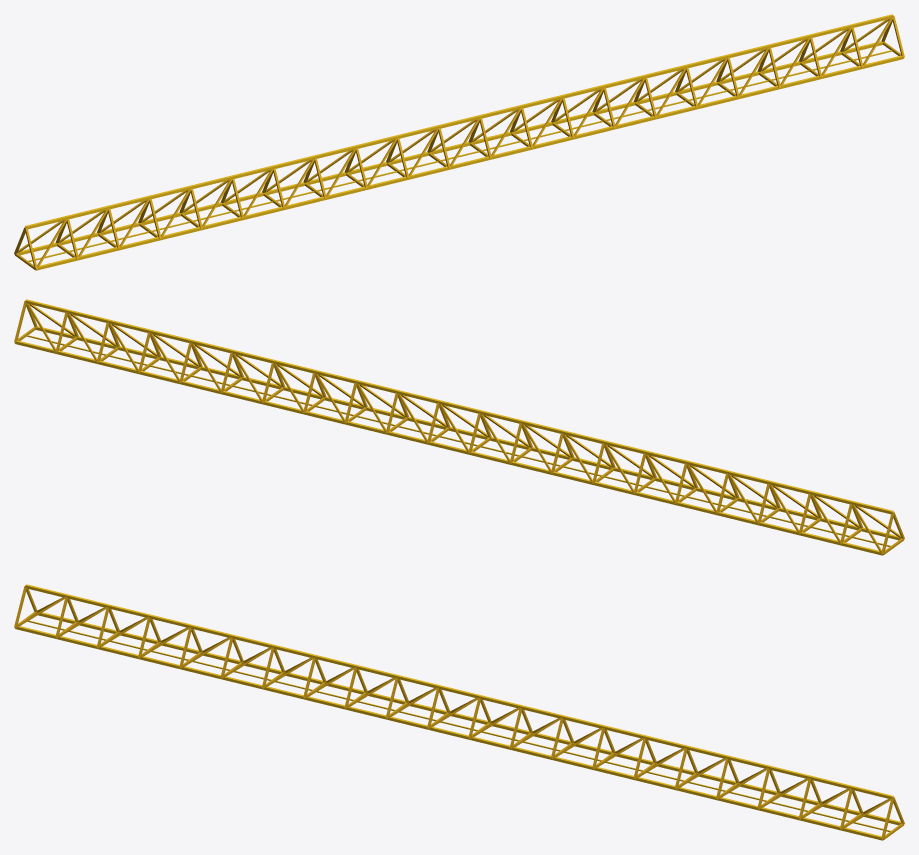
Rendered from crane-jib.glb.
3 views of the same model, one above another, from view 1: azimuth 30°, elevation 25°; view 2: azimuth 150°, elevation 25°; view 3: azimuth 330°, elevation 25° (orthographic).
Visible parts, largest first — view 1: crane-jib; view 2: crane-jib; view 3: crane-jib.
Boxes of the visible parts, x1,y1,x2,y2 form: crane-jib: (14,14,904,270); crane-jib: (14,299,904,555); crane-jib: (14,584,904,840).
Bounding box in the file's own units: 78.18 × 3.13 × 3.41.
